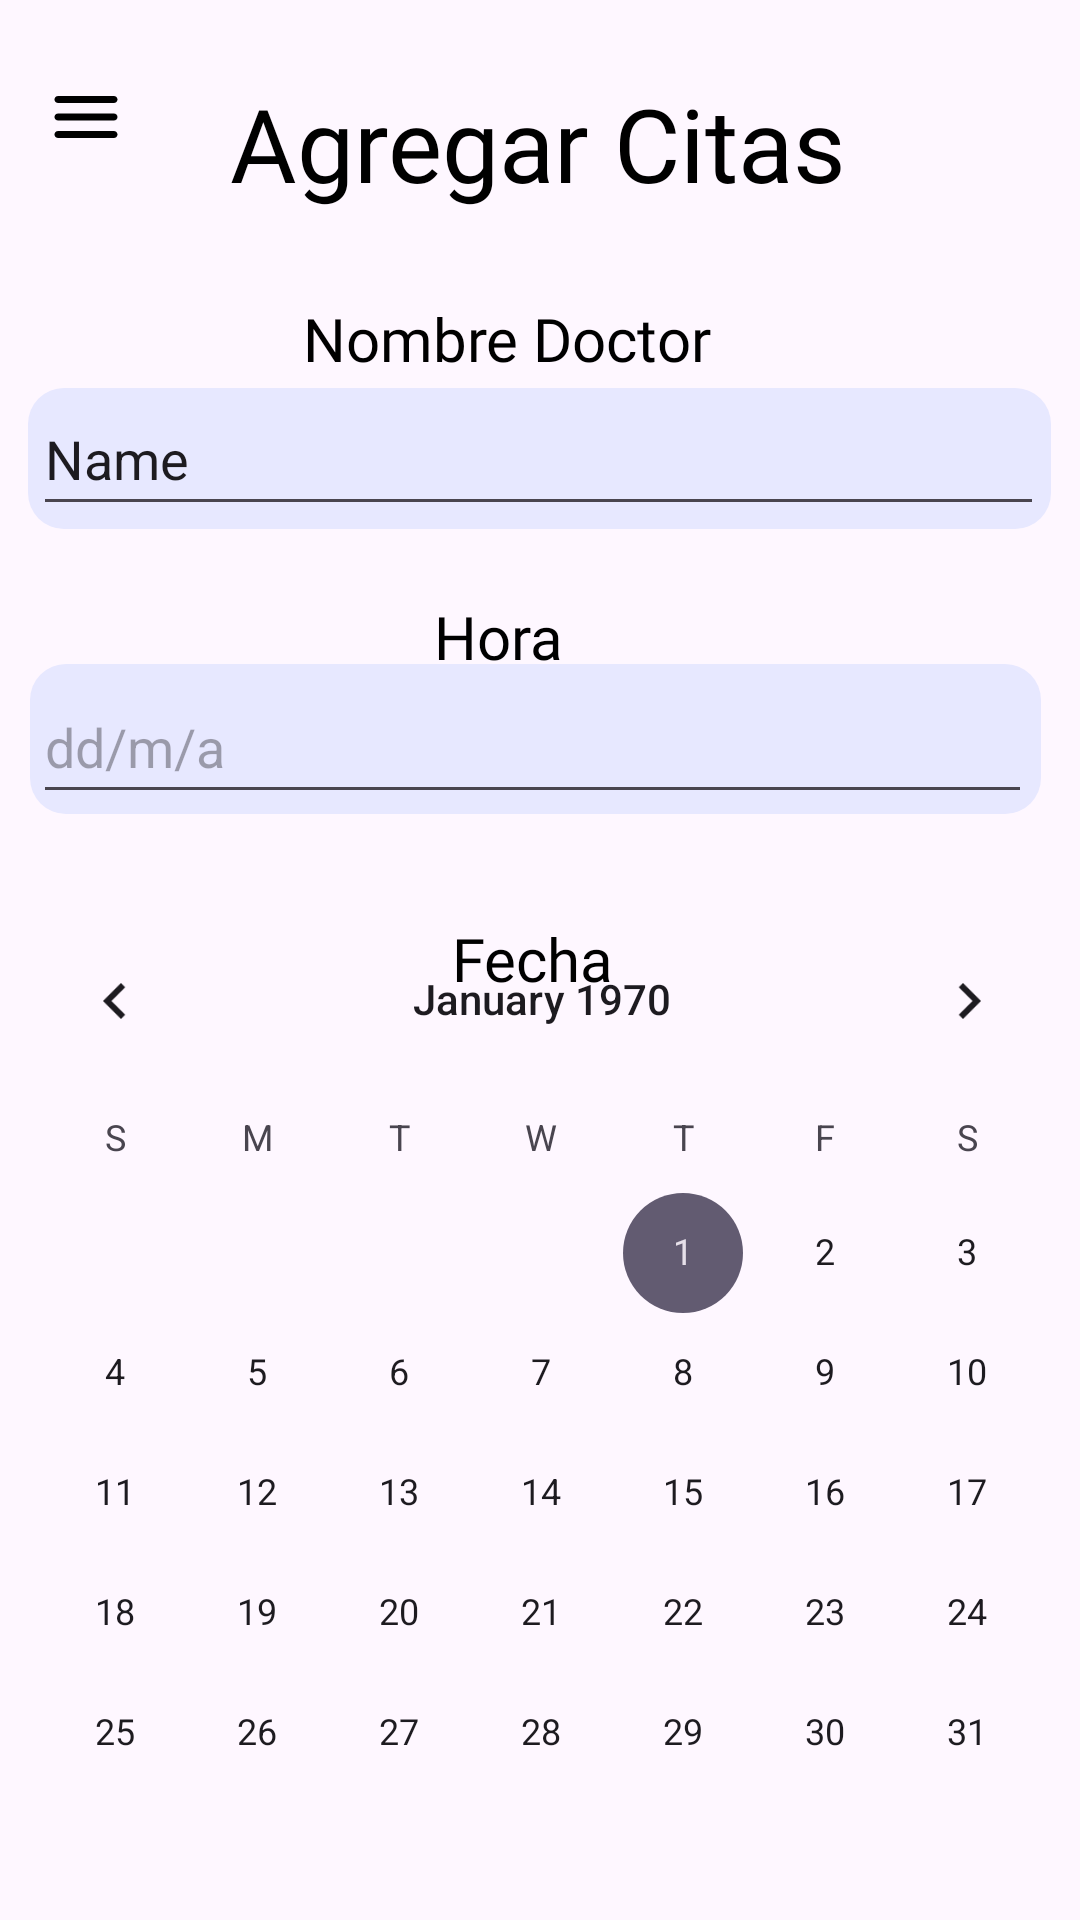

Screen size 1080x1920. Icon name, then its center in pixels as point (x, y):
menu: point (86, 117)
